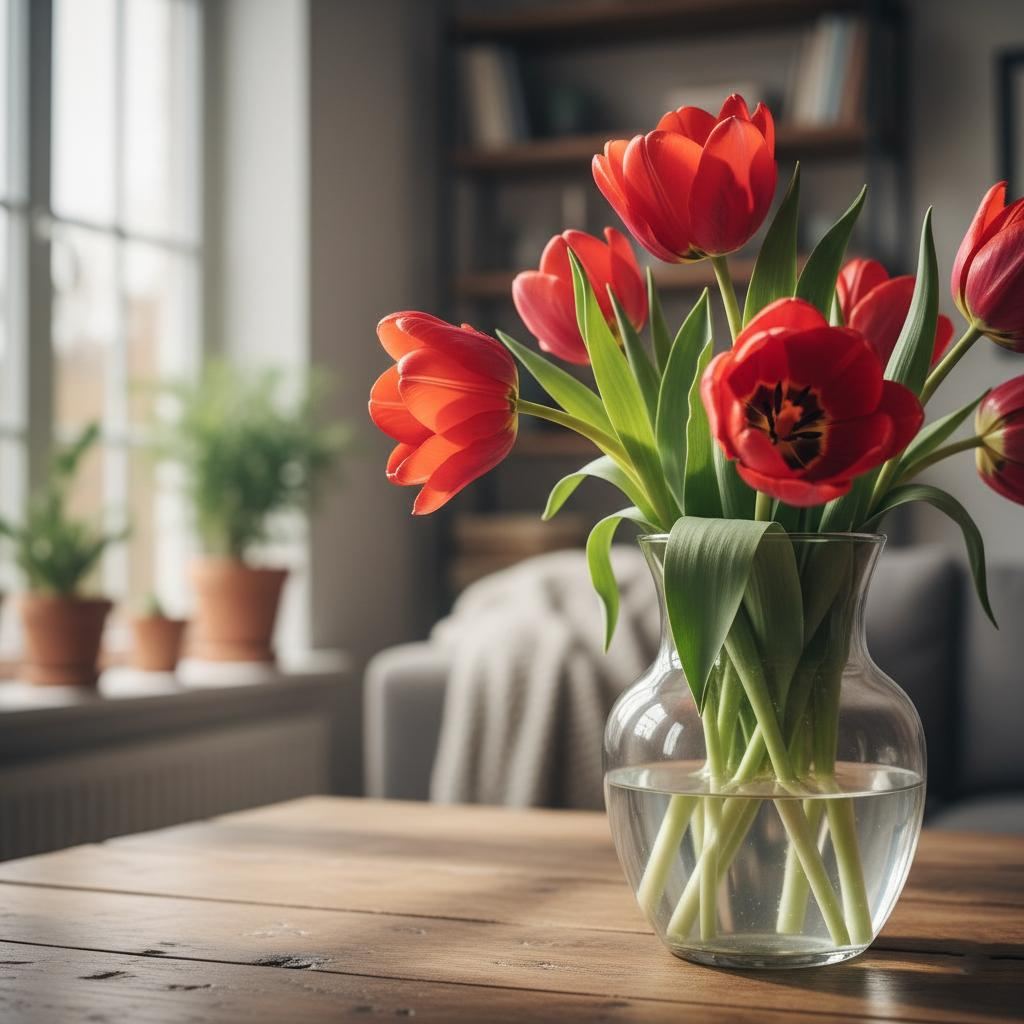tulip: (360, 271, 526, 525), (699, 319, 923, 507), (590, 91, 778, 265)
